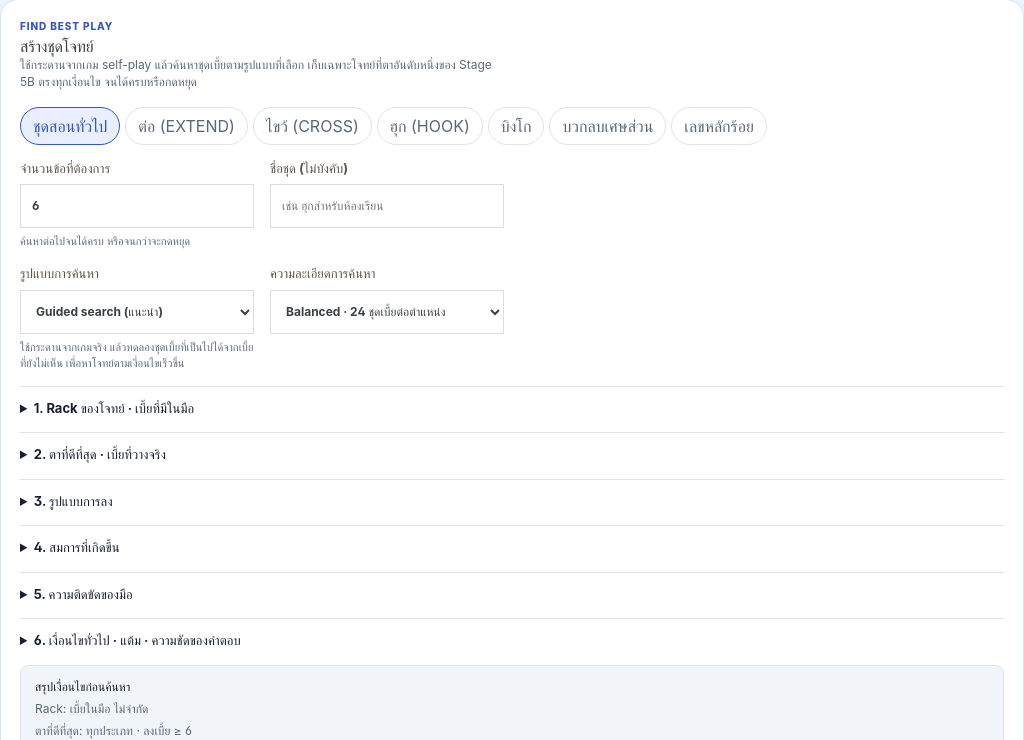
Admin → Study puzzles › prevents a contradictory physical rack request before a search
The width and height of the screenshot is (1024, 740).
Click the heading "1. Rack ของโจทย์ · เบี้ยที่มีในมือ".
click(114, 408)  # box 34,400 -> 194,416
(page scrolled)
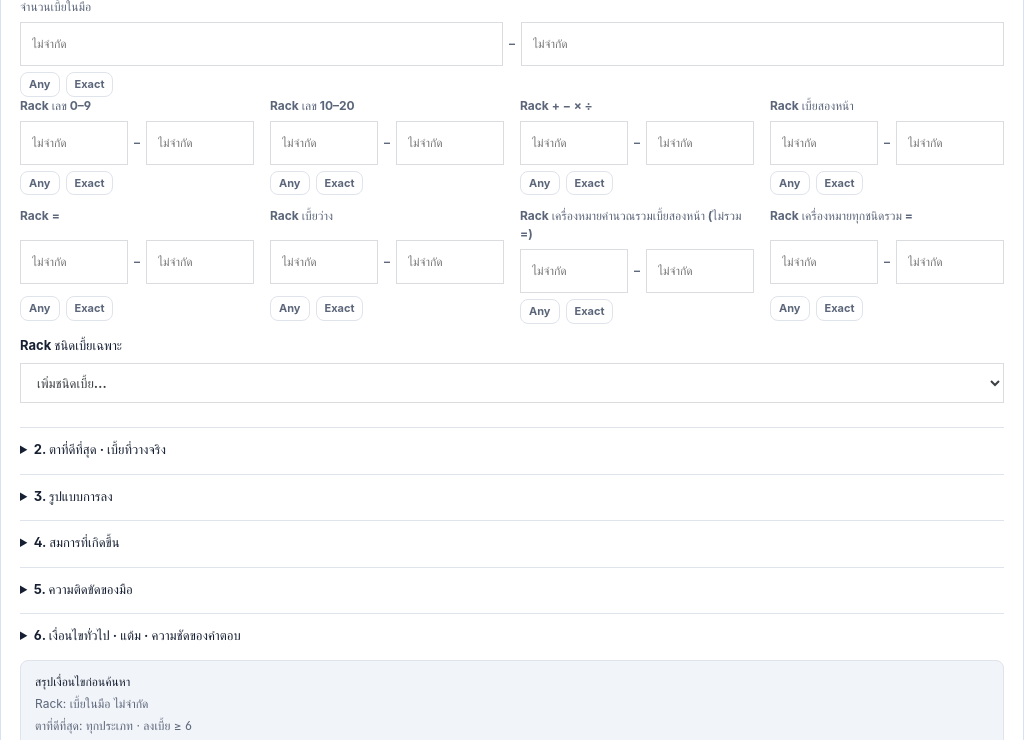
Select "20 (20)" in the dropdown named "Rack ชนิดเบี้ยเฉพาะ เพิ่มชนิดเบี้ย" at (512, 383), box 20,363 -> 1004,403
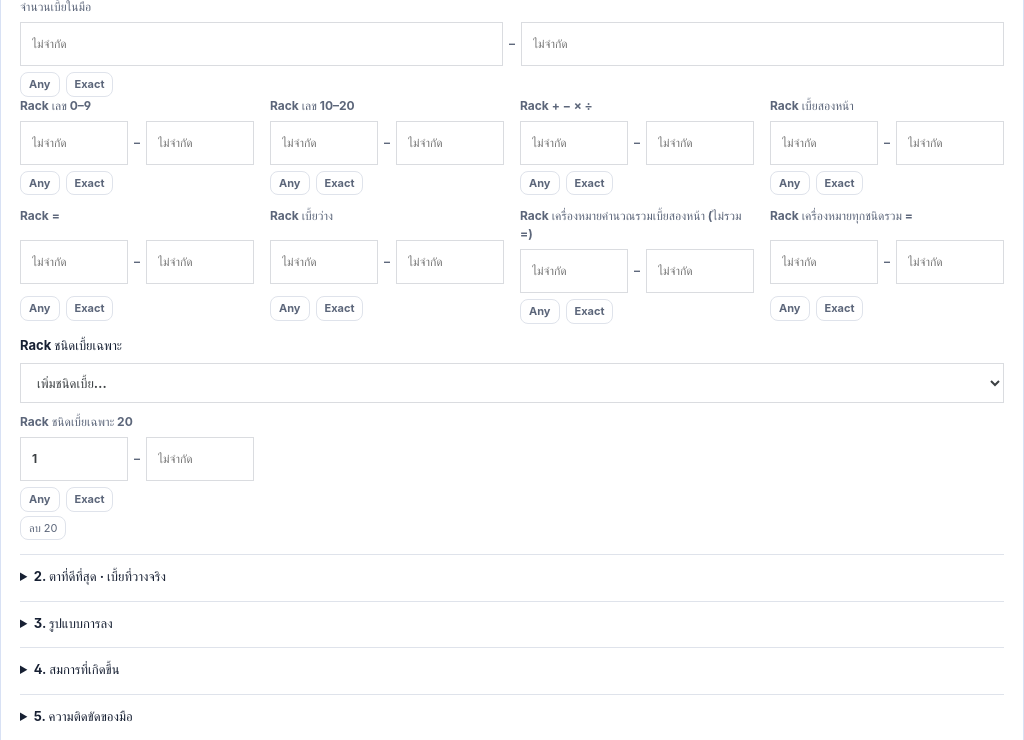
Replace the text in the number field named "Rack ชนิดเบี้ยเฉพาะ 20 ขั้นต่ำ" with "2" at (74, 459), box 20,437 -> 128,481
(page scrolled)
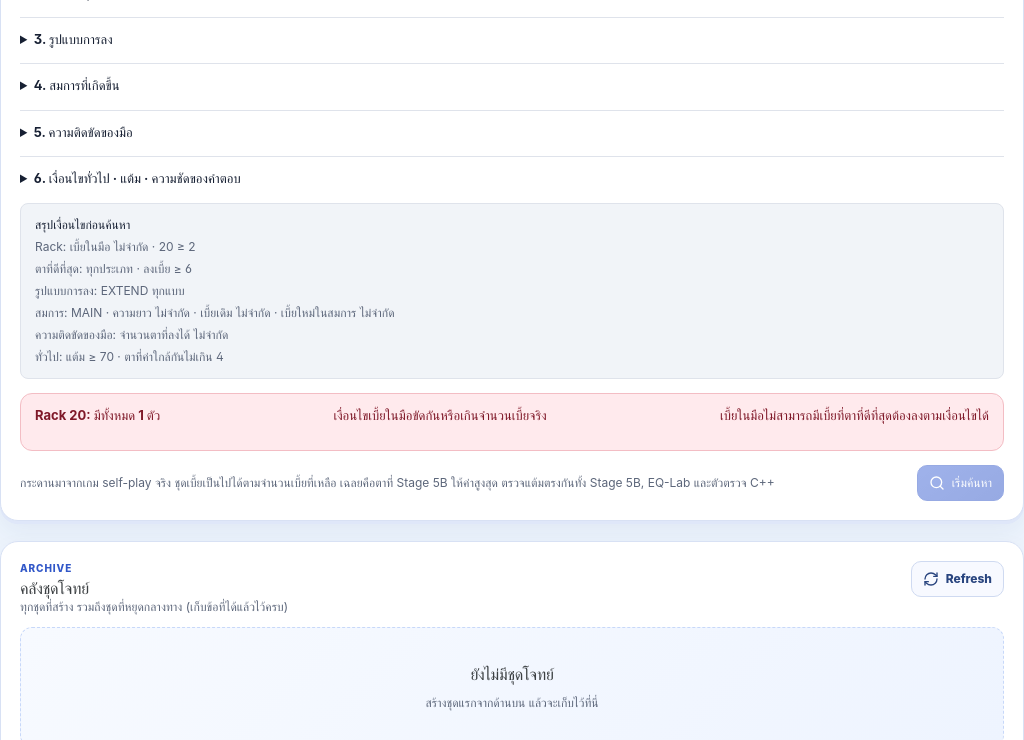
Result: the message shows "มีทั้งหมด 1 ตัว" at 35,407 -> 160,423
Result: the button "เริ่มค้นหา" is disabled at 917,465 -> 1004,501
